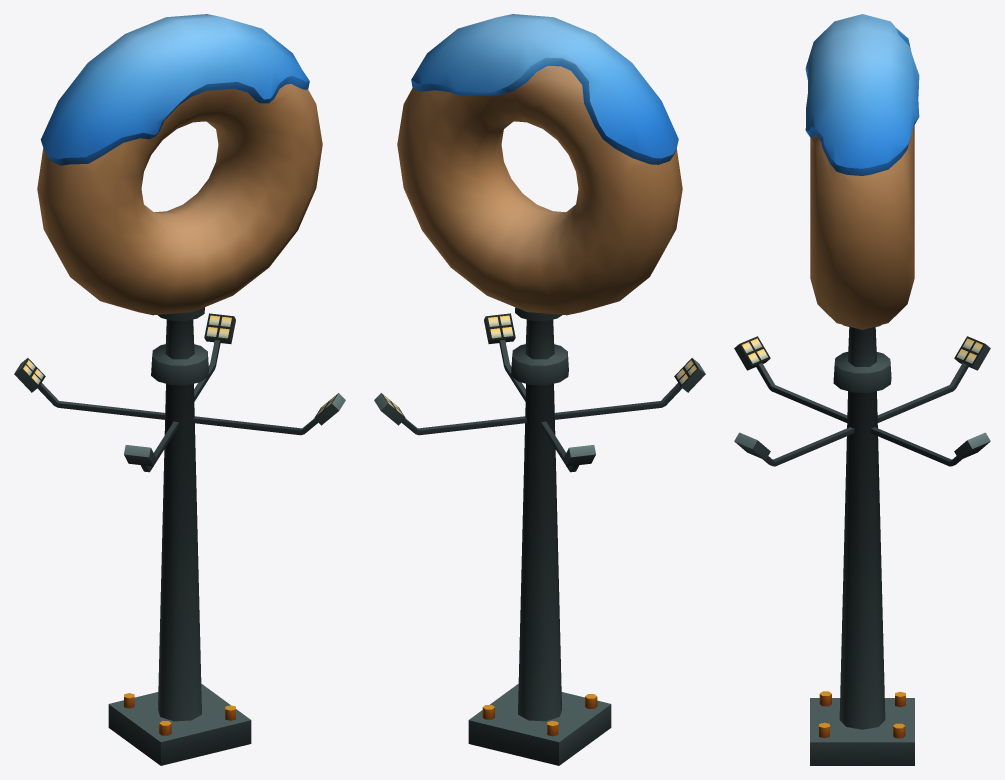
The model's file is Billboard_5A.fbx.
3 views of the same model, side by side, from view 1: azimuth 30°, elevation 25°; view 2: azimuth 150°, elevation 25°; view 3: azimuth 270°, elevation 25° (orthographic).
Visible parts, largest first — view 1: Billboard_5A_Rotating_Donut, Billboard_5A; view 2: Billboard_5A_Rotating_Donut, Billboard_5A; view 3: Billboard_5A_Rotating_Donut, Billboard_5A.
Part boxes in pixels (bbox=[...]): Billboard_5A_Rotating_Donut: bbox=[37, 14, 322, 321]; Billboard_5A: bbox=[14, 313, 345, 765]; Billboard_5A_Rotating_Donut: bbox=[397, 14, 682, 321]; Billboard_5A: bbox=[374, 313, 705, 765]; Billboard_5A_Rotating_Donut: bbox=[805, 14, 919, 329]; Billboard_5A: bbox=[734, 327, 990, 765].
Size of the model in its own units: 599 by 1508 by 490.
